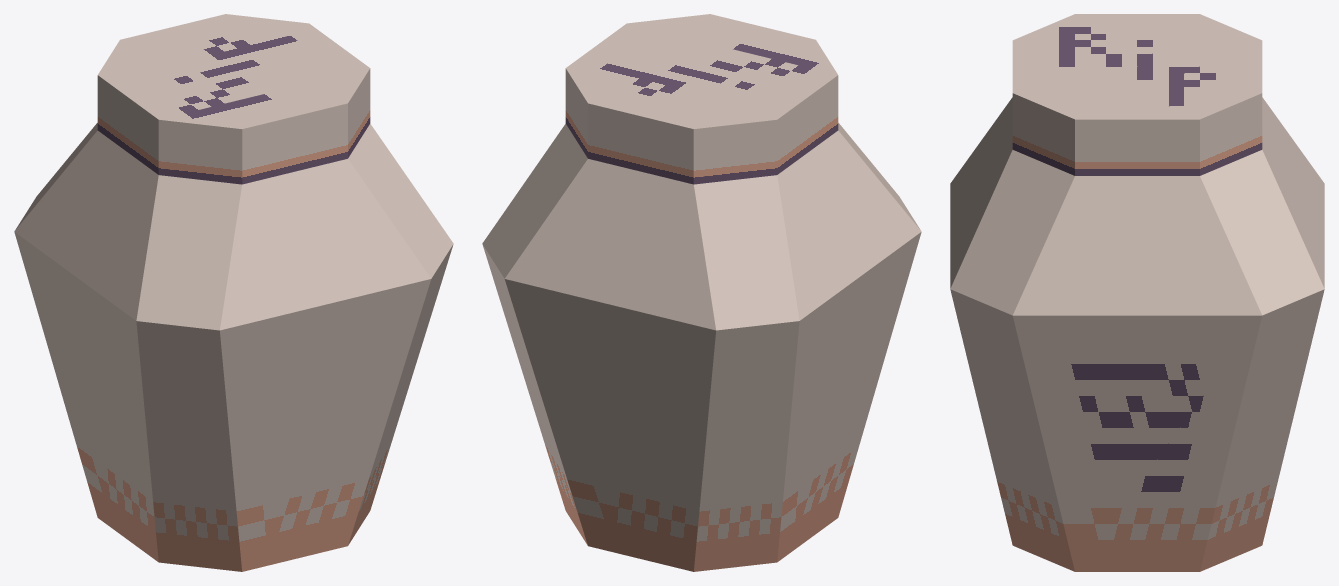
File: Urne.gltf
The picture shows the model from 3 angles, left to right: view 1: azimuth 30°, elevation 25°; view 2: azimuth 150°, elevation 25°; view 3: azimuth 270°, elevation 25°; orthographic projection. The views are drawn at different scales.
Bounding box in the file's own units: 1.5 × 2 × 1.5.
1 material, 1 textured.
